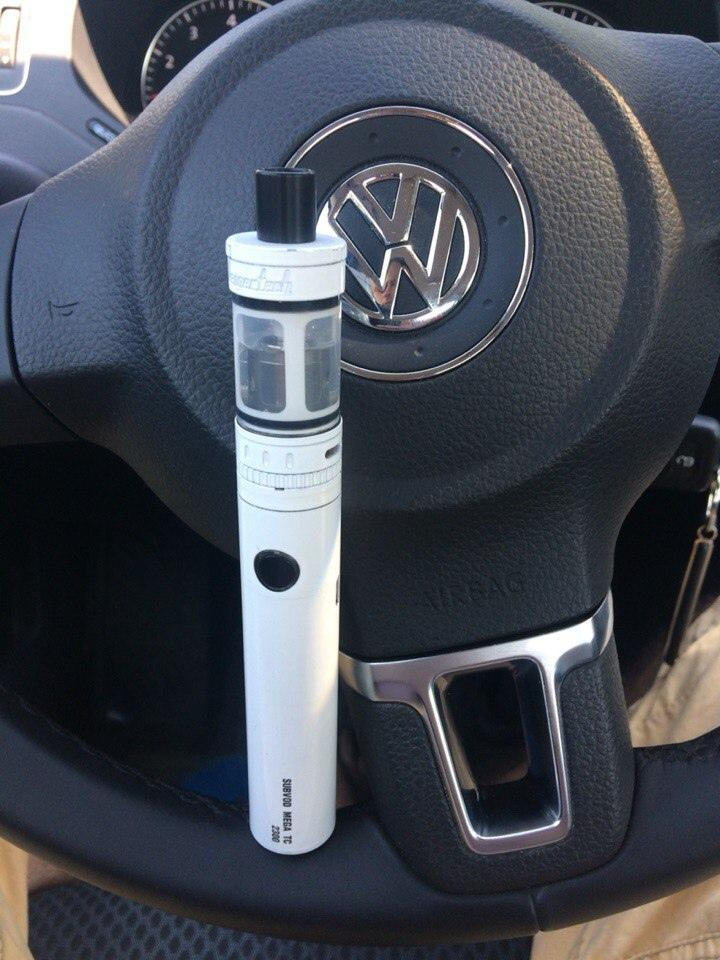Vape: (226, 169, 346, 854)
